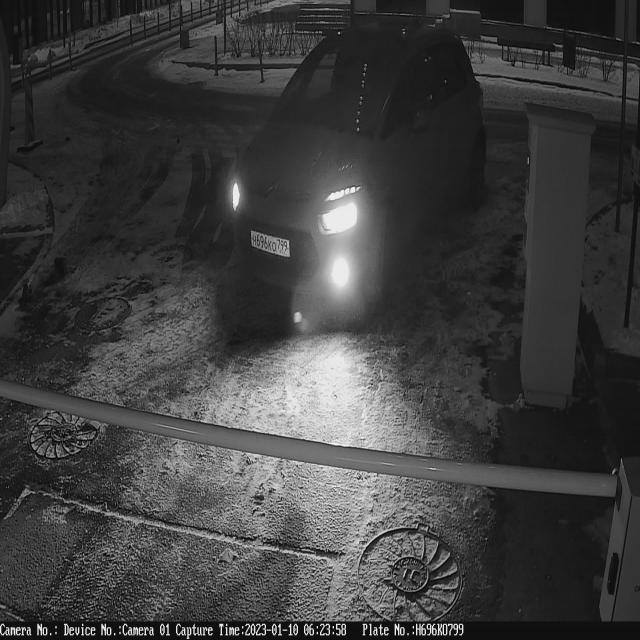car-plate-numbers: (250, 228, 293, 260)
